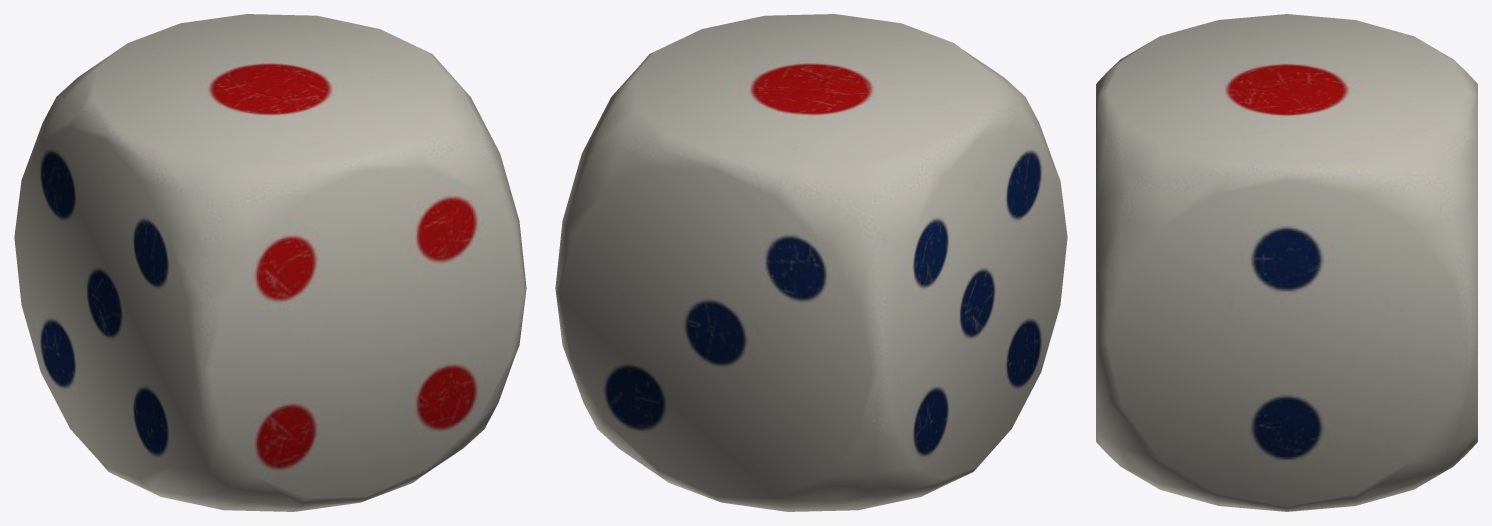
The model's file is dice2.obj.
3 views of the same model, side by side, from view 1: azimuth 30°, elevation 25°; view 2: azimuth 150°, elevation 25°; view 3: azimuth 270°, elevation 25° (orthographic).
Parts seen in each view (by area): view 1: defaultMaterial; view 2: defaultMaterial; view 3: defaultMaterial.
Part boxes in pixels (bbox=[...]): defaultMaterial: bbox=[14, 14, 526, 511]; defaultMaterial: bbox=[555, 14, 1067, 511]; defaultMaterial: bbox=[1096, 14, 1477, 511].
Size of the model in its own units: 0.0273 by 0.0273 by 0.0273.
